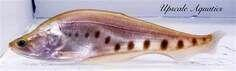Knifefish: (7, 7, 226, 63)
